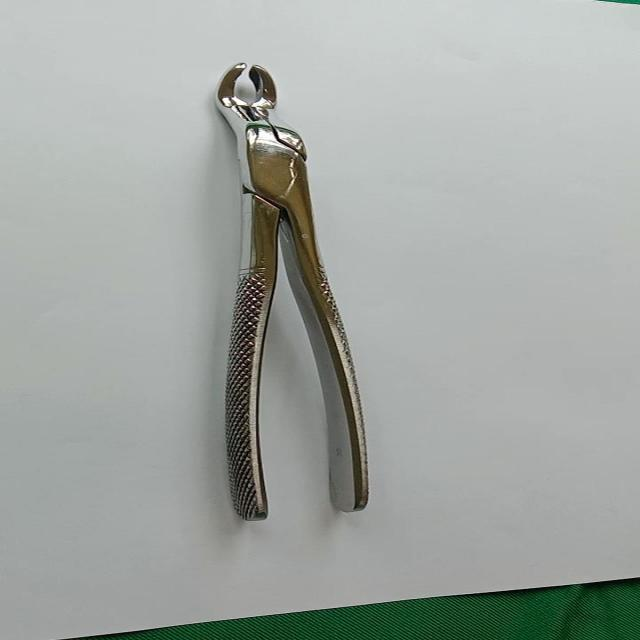BayonetForcep: (199, 59, 382, 528)
